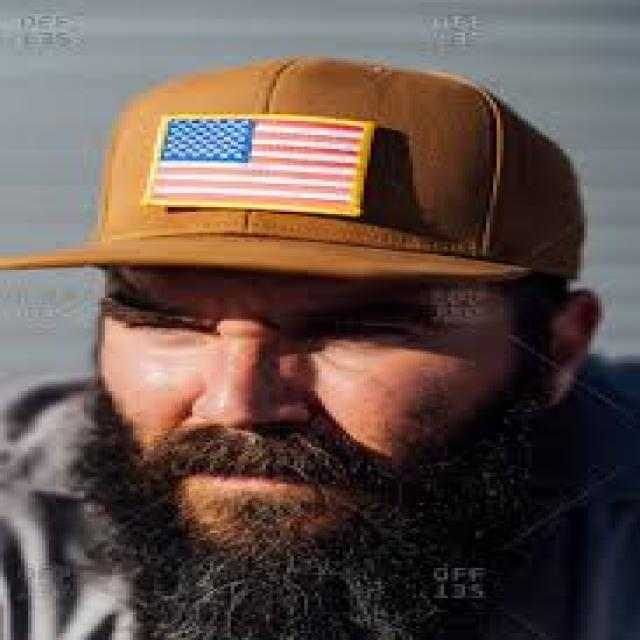cap: (0, 56, 609, 577)
